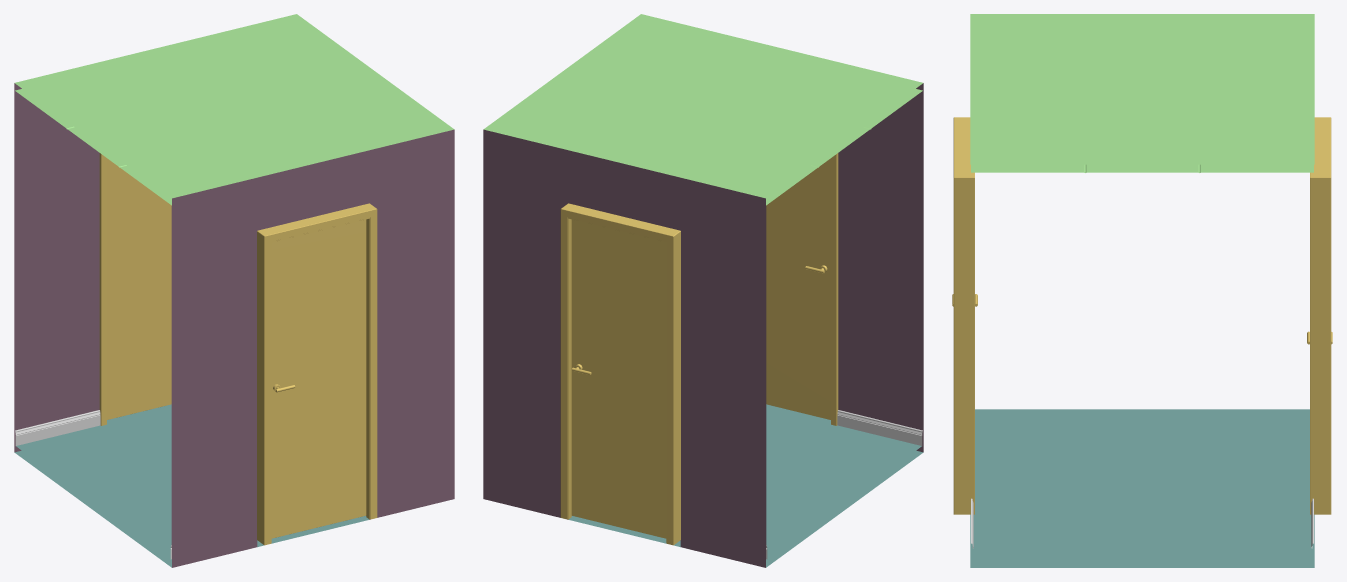
File: Corridor_2_door_w_light.fbx
The picture shows the model from 3 angles, left to right: view 1: azimuth 30°, elevation 25°; view 2: azimuth 150°, elevation 25°; view 3: azimuth 270°, elevation 25°; orthographic projection. The views are drawn at different scales.
Parts seen in each view (by area): view 1: Corridor_wall_door_2_holes, Door (×2), Doorframe (×2), Corridor_2_doors_ceiling; view 2: Corridor_wall_door_2_holes, Door (×2), Doorframe (×2), Corridor_2_doors_ceiling; view 3: Corridor_wall_door_2_holes, Doorframe (×2), Corridor_2_doors_ceiling.
Boxes of the visible parts, x1,y1,x2,y2 form: Corridor_wall_door_2_holes: (14, 14, 454, 567); Door (×2): (107, 158, 366, 538); Doorframe (×2): (99, 153, 377, 545); Corridor_2_doors_ceiling: (15, 89, 171, 205); Corridor_wall_door_2_holes: (483, 14, 923, 567); Door (×2): (571, 158, 830, 538); Doorframe (×2): (560, 153, 838, 545); Corridor_2_doors_ceiling: (766, 89, 922, 205); Corridor_wall_door_2_holes: (970, 14, 1314, 567); Doorframe (×2): (953, 117, 1331, 514); Corridor_2_doors_ceiling: (971, 164, 1313, 172).
Bounding box in the file's own units: 2 × 2.5 × 2.14.
